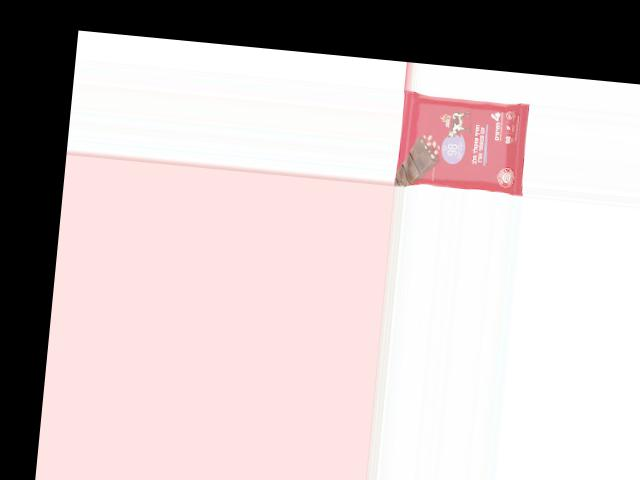chocolate: (396, 90, 532, 194)
